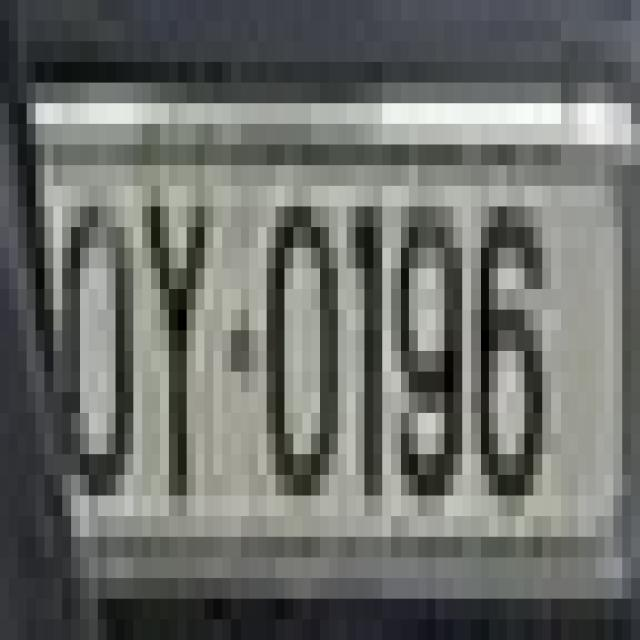0: (266, 185, 338, 496), (63, 185, 134, 496)
1: (346, 207, 392, 496)
6: (471, 185, 551, 496)
9: (391, 185, 462, 496)
Y: (142, 185, 214, 496)
